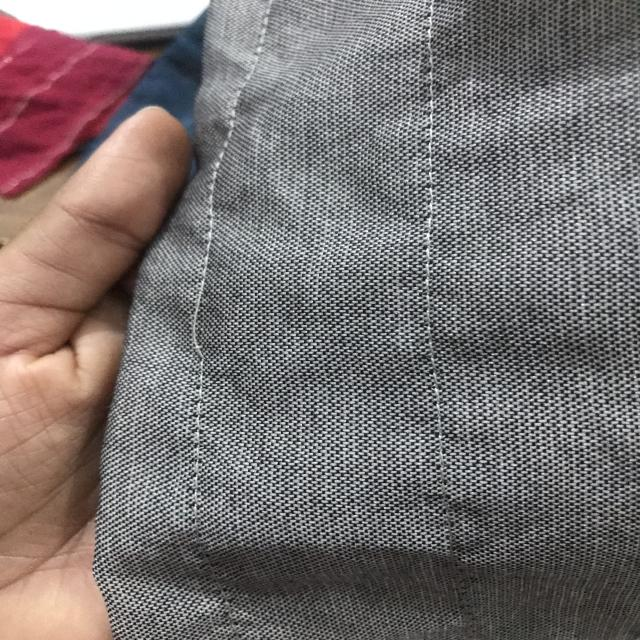skip: (178, 265, 238, 382)
